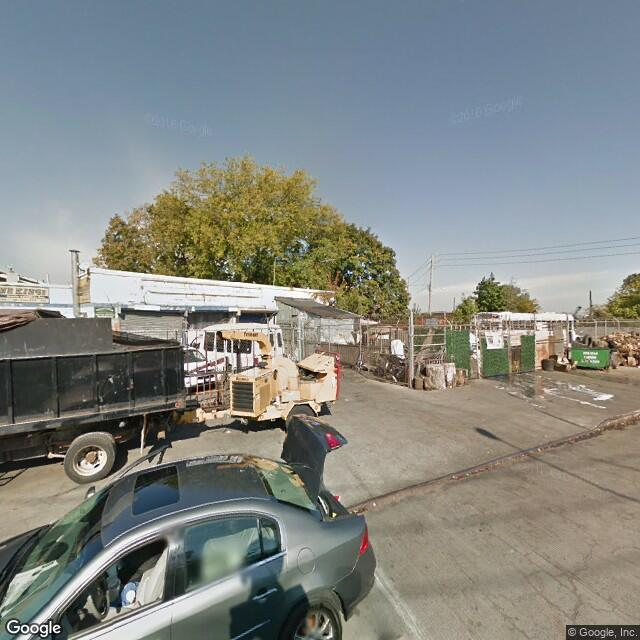litter: (364, 501, 383, 512)
